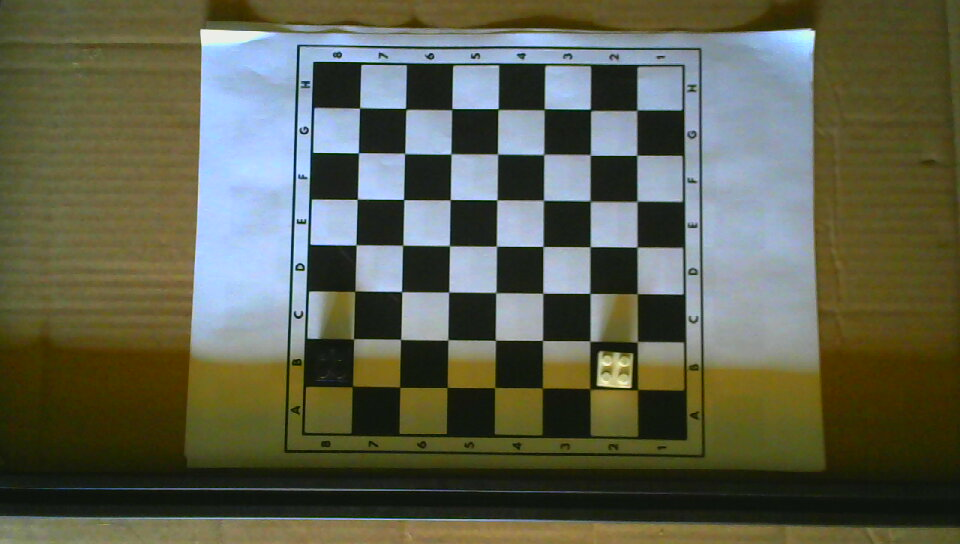bp: (312, 346, 350, 386)
wp: (596, 350, 634, 389)
